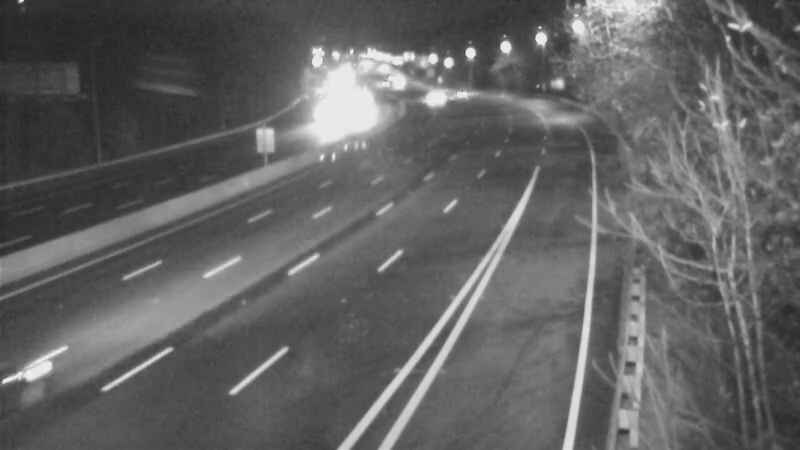vehicle: (438, 68, 488, 118), (409, 71, 459, 121)
